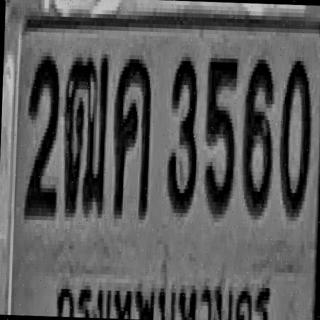A04: (111, 52, 153, 218)
A18: (61, 48, 110, 214)
N00: (277, 54, 313, 215)
N02: (23, 49, 61, 214)
N03: (165, 52, 200, 213)
N05: (202, 52, 238, 216)
N06: (240, 53, 276, 214)
